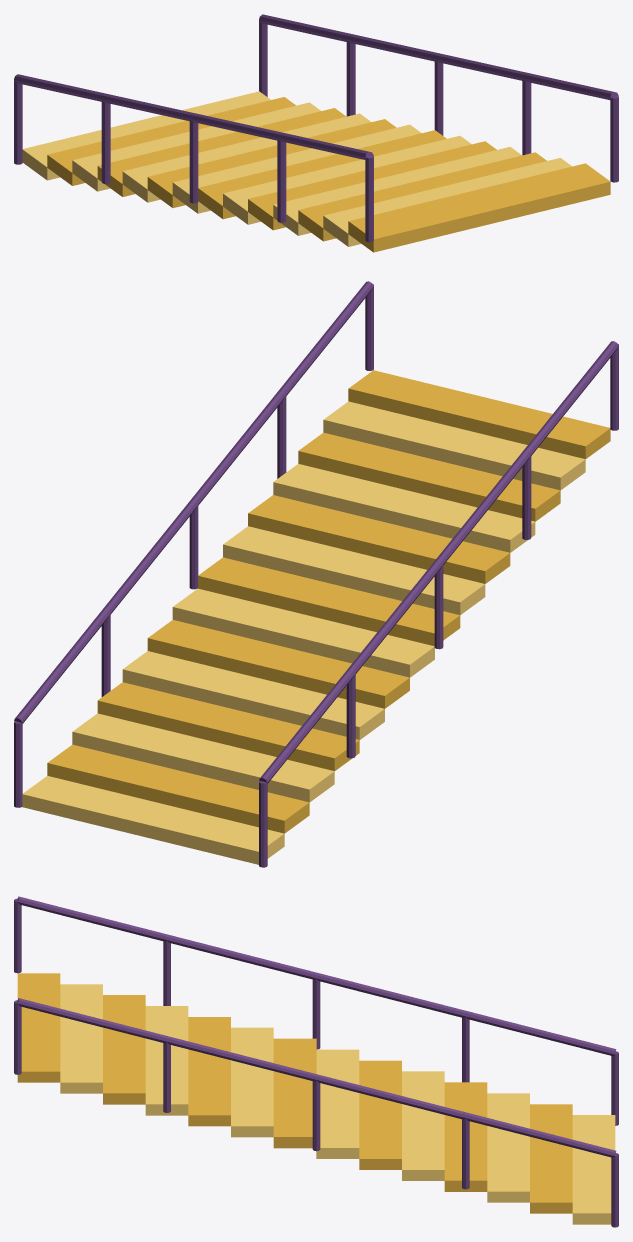
File: station_stairs_north.glb
3 renders of one model, top to bottom at view 1: azimuth 30°, elevation 25°; view 2: azimuth 150°, elevation 25°; view 3: azimuth 270°, elevation 25°, orthographic. The views are drawn at different scales.
Parts seen in each view (by area): view 1: station_stairs_north; view 2: station_stairs_north; view 3: station_stairs_north.
Boxes of the visible parts, x1=… form: station_stairs_north: x1=14, y1=14, x2=618, y2=252; station_stairs_north: x1=14, y1=281, x2=618, y2=867; station_stairs_north: x1=14, y1=896, x2=618, y2=1227.
Size of the model in its own units: 3.25 by 3.28 by 7.9.
